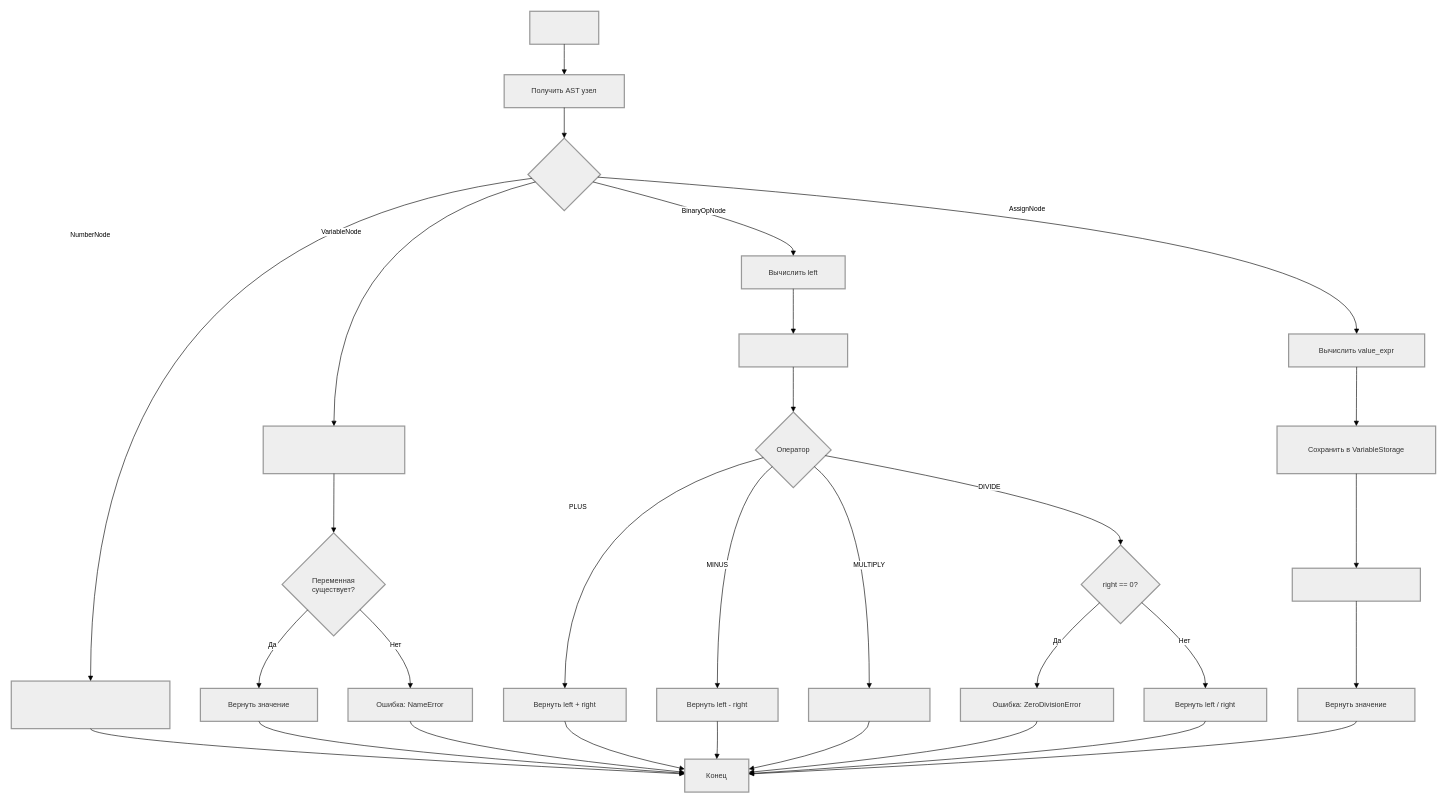
Some shapes in this 1446 by 803 pixel diagram are drawn without their labels. Here are the shapes that lost their labels. From the top down, the box of each, then its label:
(529, 10, 599, 45): Начало
(527, 137, 601, 211): Тип узла
(738, 333, 848, 367): Вычислить right
(262, 425, 405, 474): Запросить переменную у VariableStorage
(1291, 567, 1421, 601): Добавить в историю
(10, 680, 170, 729): Вернуть числовое значение
(808, 687, 930, 722): Вернуть left * right
